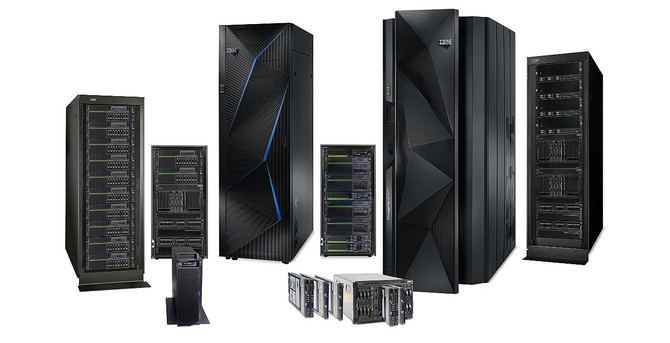ibm-server: (374, 3, 524, 297), (213, 17, 318, 267), (521, 46, 612, 274), (58, 86, 152, 296), (148, 141, 216, 265), (316, 140, 378, 261), (333, 267, 422, 332), (160, 244, 214, 334)
